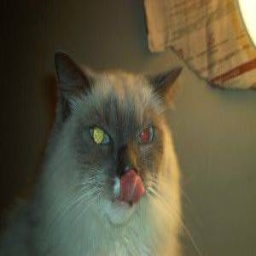cat: (5, 55, 181, 256)
